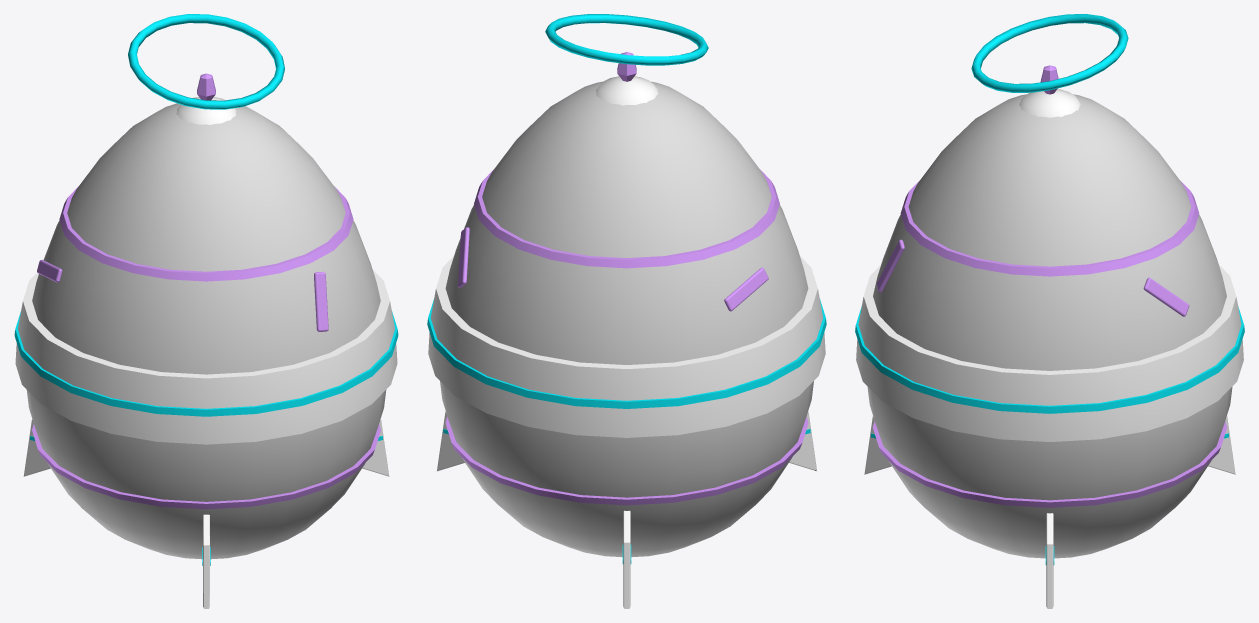
File: FutureEgg.glb
The picture shows the model from 3 angles, left to right: view 1: azimuth 30°, elevation 25°; view 2: azimuth 150°, elevation 25°; view 3: azimuth 270°, elevation 25°; orthographic projection. The views are drawn at different scales.
Parts seen in each view (by area): view 1: Shell, Band, Accent, Glow; view 2: Shell, Band, Accent, Glow; view 3: Shell, Band, Accent, Glow.
Boxes of the visible parts, bbox=[...] form: Shell: bbox=[26, 103, 386, 559]; Band: bbox=[15, 97, 397, 608]; Accent: bbox=[32, 73, 380, 509]; Glow: bbox=[14, 14, 398, 565]; Shell: bbox=[440, 81, 813, 557]; Band: bbox=[428, 76, 825, 608]; Accent: bbox=[445, 52, 808, 505]; Glow: bbox=[427, 14, 826, 563]; Shell: bbox=[867, 94, 1232, 558]; Band: bbox=[856, 89, 1243, 608]; Accent: bbox=[873, 65, 1226, 507]; Glow: bbox=[855, 14, 1244, 564].
Size of the model in its own units: 3.35 by 4.59 by 3.2.
